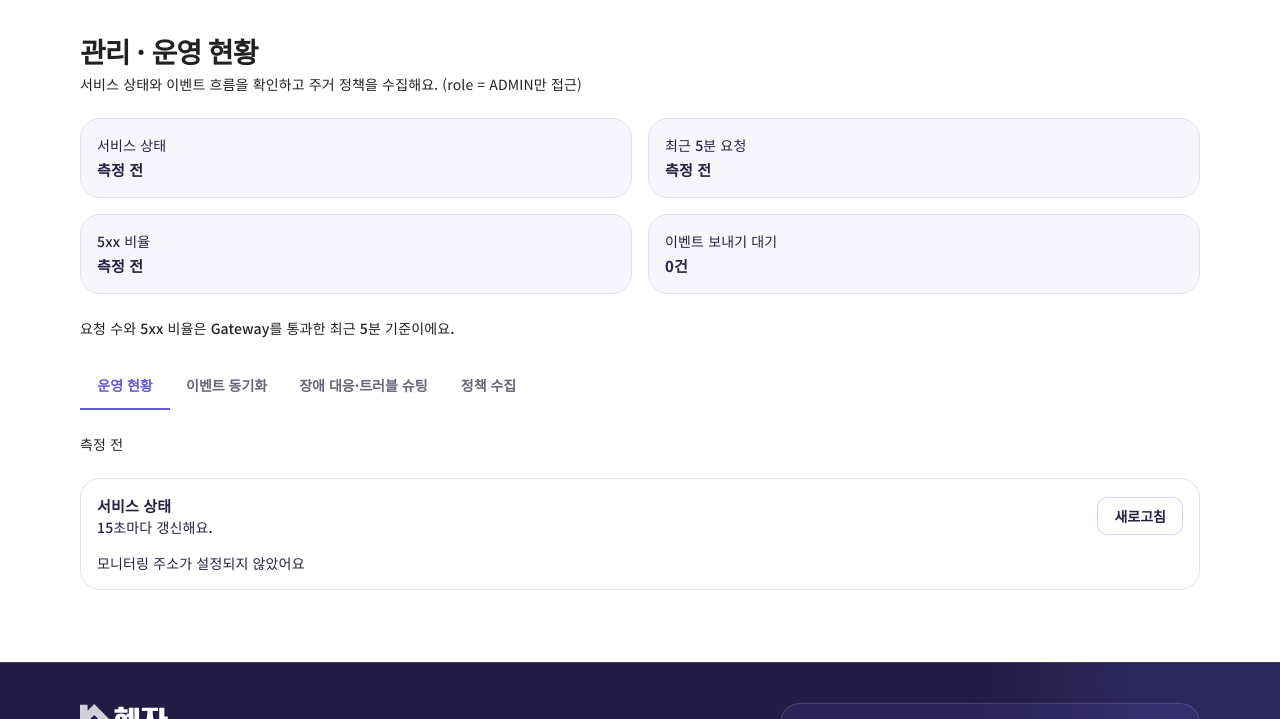
it: 관리자 이벤트 동기화 상태 › 이벤트가 하나도 없으면 빈 안내를 보여 준다
Check: the heading "관리 · 운영 현황" is shown, box [80,31,257,71]
Click the tab "이벤트 동기화" at x=227, y=386, box [170,362,283,410]
(page scrolled)
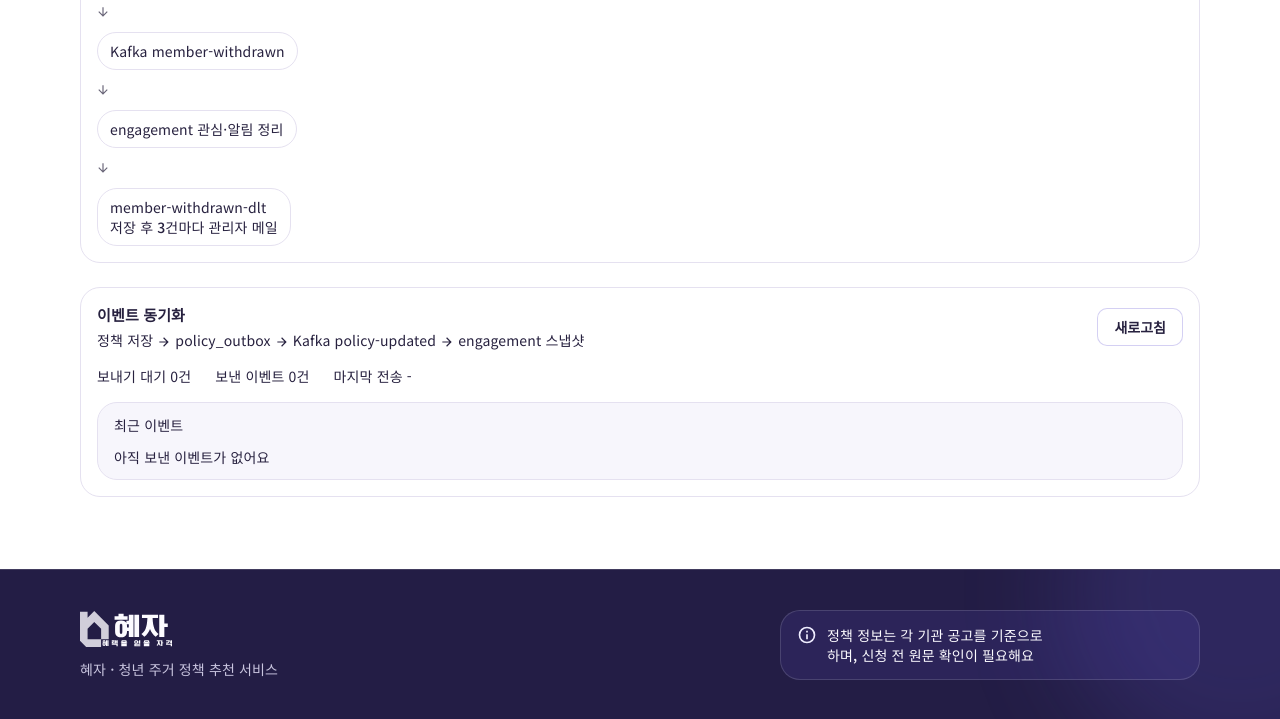
Check: the text "아직 보낸 이벤트가 없어요" is shown, box [114,447,270,467]
